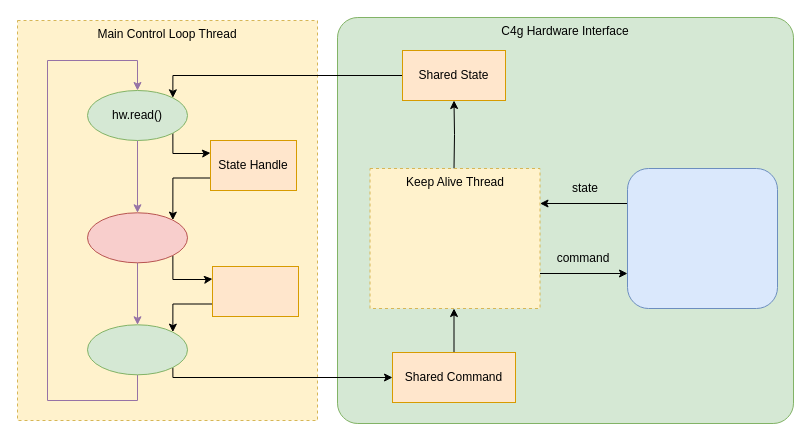
Image size: 811x446. Some labels were removed from this diagram. Here are the shapes that lost their labels. From the top down, the centre of each, then its label:
(x=137, y=237): cm.update()
(x=702, y=238): C4g Open
(x=255, y=291): Command Handle
(x=137, y=349): hw.write()
